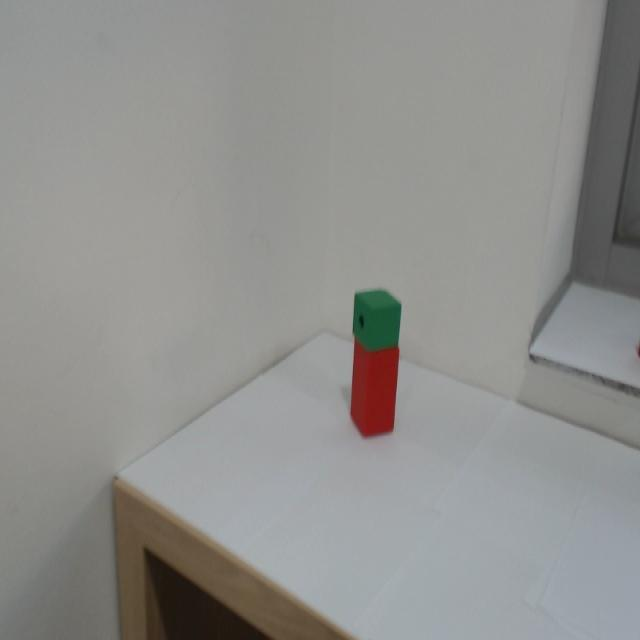cube: (349, 286, 406, 351)
